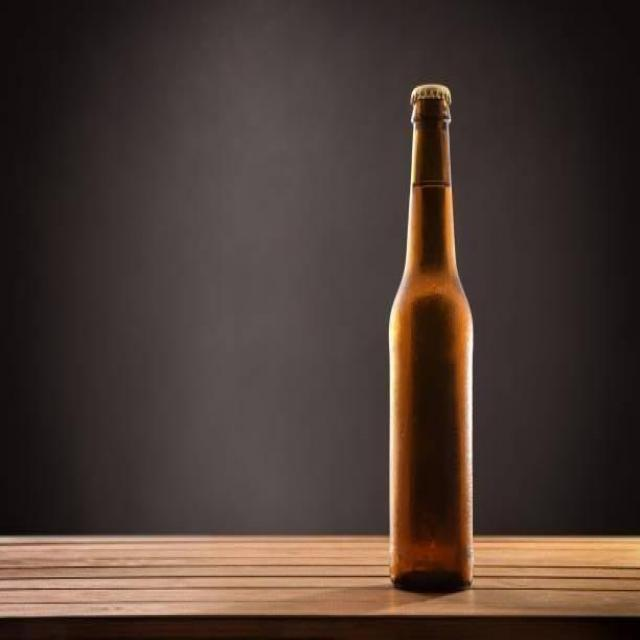bottle-glass: (384, 78, 478, 600)
